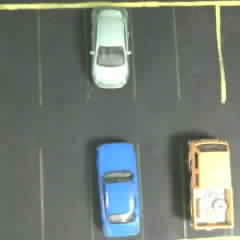Car: (179, 130, 238, 235), (89, 139, 146, 238), (83, 7, 135, 90)
